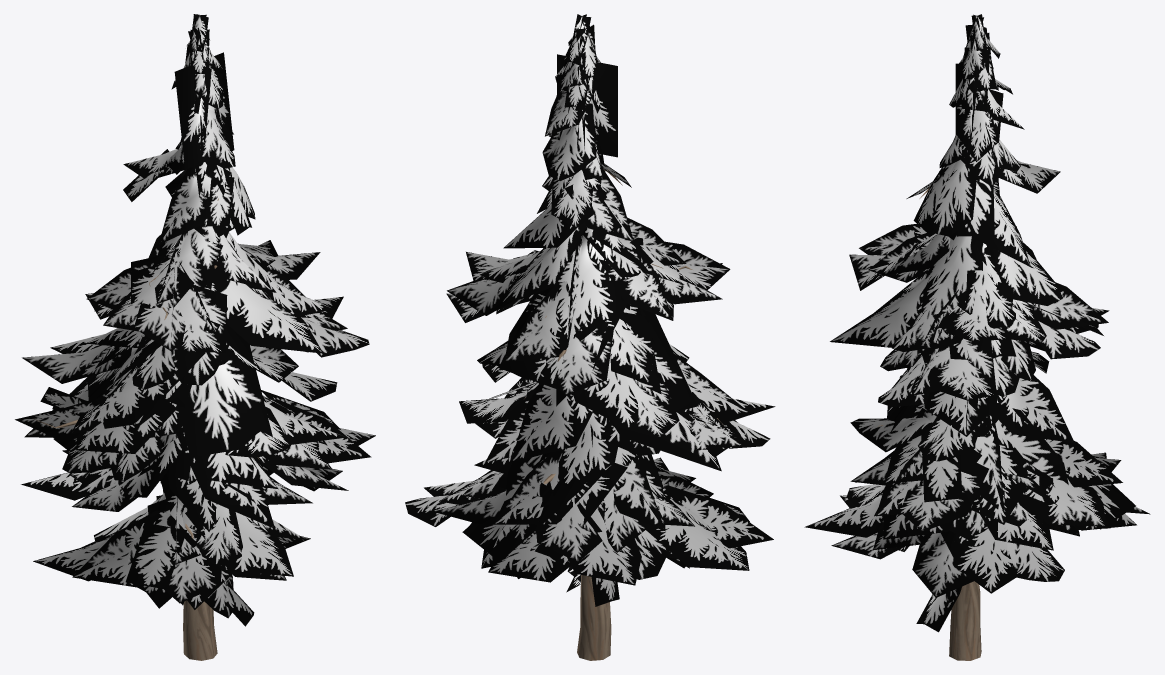
The model's file is P_Pine02.obj.
3 renders of one model, left to right at view 1: azimuth 30°, elevation 25°; view 2: azimuth 150°, elevation 25°; view 3: azimuth 270°, elevation 25°, orthographic.
Bounding box in the file's own units: 9.73 × 18.29 × 8.97.
